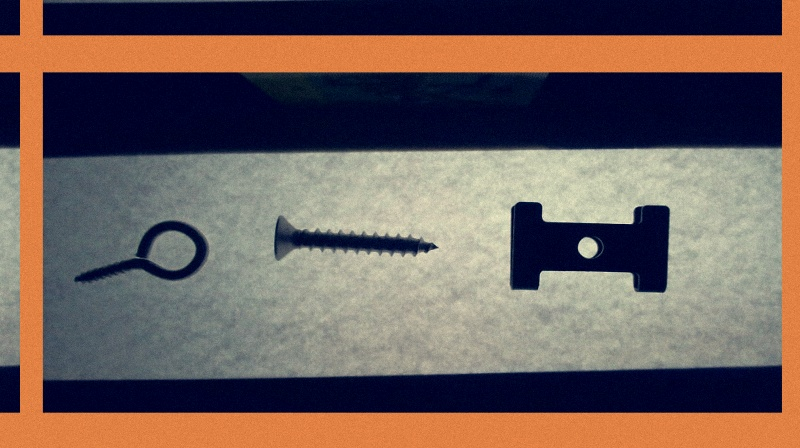O001: (66, 216, 216, 288)
O002: (505, 197, 674, 293)
S001: (271, 213, 438, 264)
